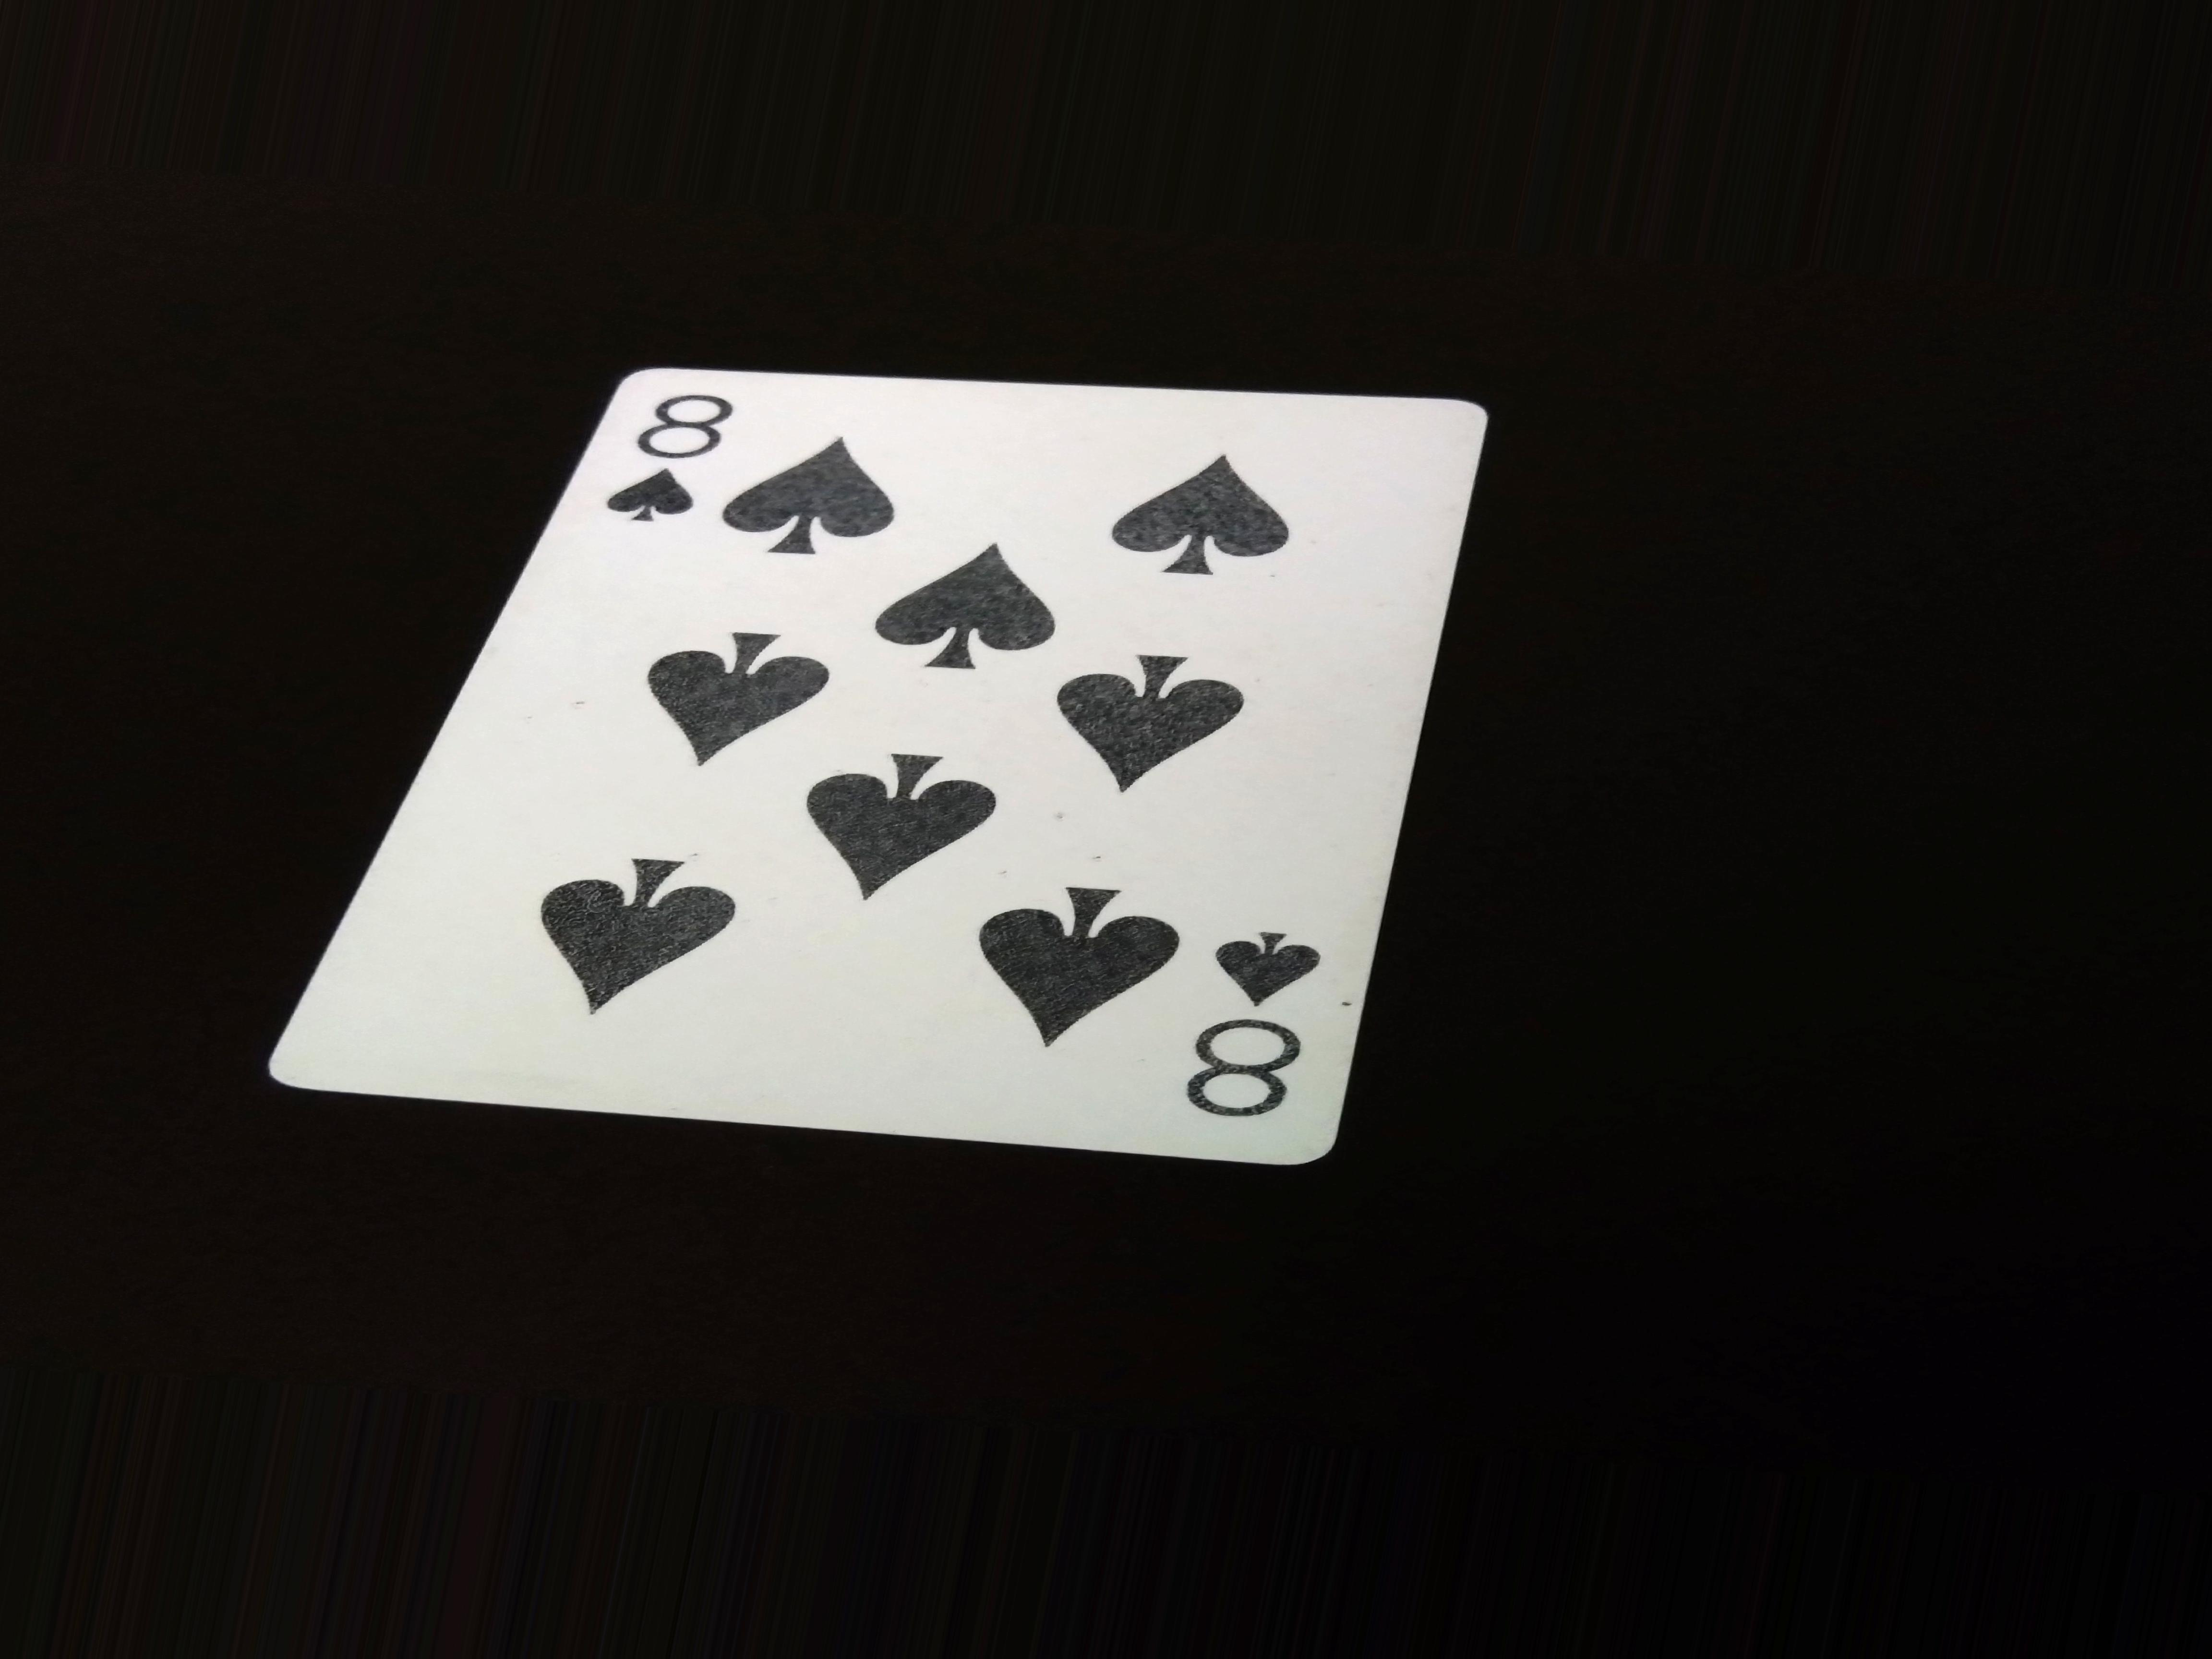8S: (597, 385, 744, 561)
